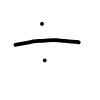div: (14, 22, 82, 63)
